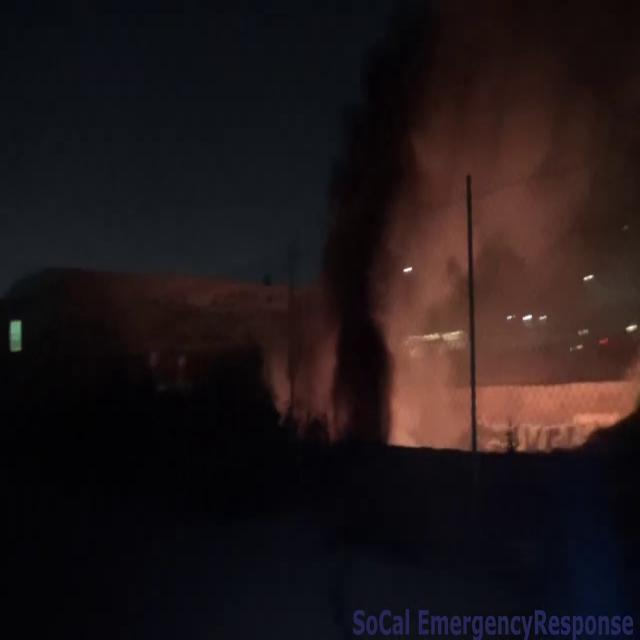Smoke: (288, 6, 638, 443)
